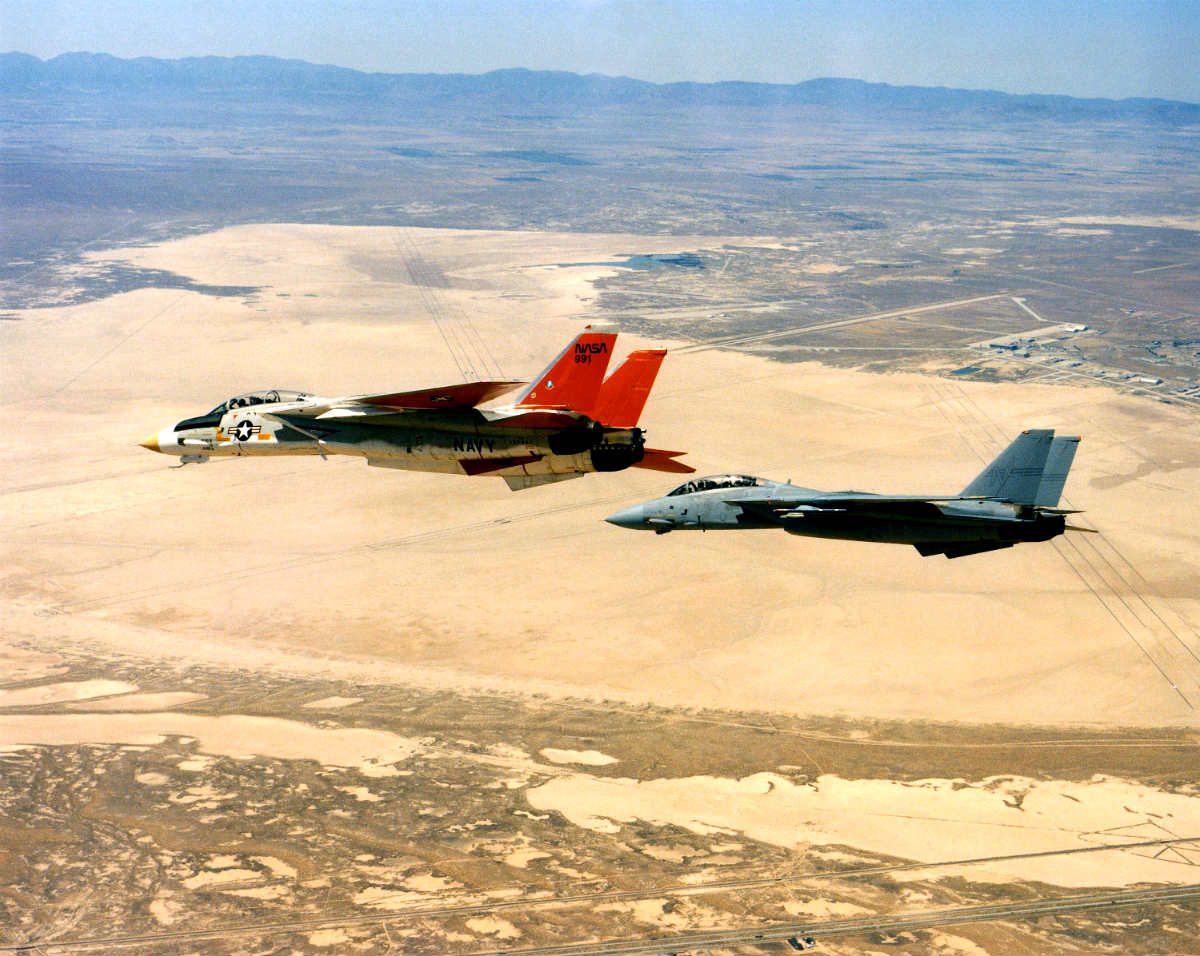F14: (133, 323, 698, 492), (598, 428, 1100, 560)
